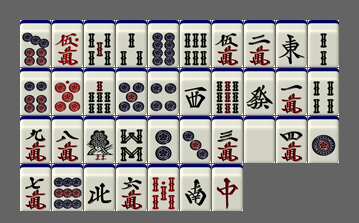0m: (52, 20, 83, 67)
0p: (52, 68, 83, 115)
0s: (148, 164, 179, 211)
1m: (276, 68, 307, 115)
1p: (308, 116, 339, 163)
1s: (84, 116, 115, 163)
1z: (276, 20, 307, 67)
2m: (244, 20, 275, 67)
2p: (148, 116, 179, 163)
2s: (308, 20, 339, 67)
2z: (180, 164, 211, 211)
3m: (212, 116, 243, 163)
3p: (180, 116, 211, 163)
3s: (116, 20, 147, 67)
3z: (180, 68, 211, 115)
4m: (276, 116, 307, 163)
4p: (148, 68, 179, 115)
4s: (308, 68, 339, 115)
4z: (84, 164, 115, 211)
5m: (212, 20, 243, 67)
5p: (116, 68, 147, 115)
5s: (84, 20, 115, 67)
5z: (244, 116, 275, 163)
6m: (116, 164, 147, 211)
6p: (20, 68, 51, 115)
6s: (180, 20, 211, 67)
6z: (244, 68, 275, 115)
7m: (20, 164, 51, 211)
7p: (20, 20, 51, 67)
7s: (84, 68, 115, 115)
7z: (212, 164, 243, 211)
8m: (52, 116, 83, 163)
8p: (148, 20, 179, 67)
8s: (116, 116, 147, 163)
9m: (20, 116, 51, 163)
9p: (52, 164, 83, 211)
9s: (212, 68, 243, 115)
